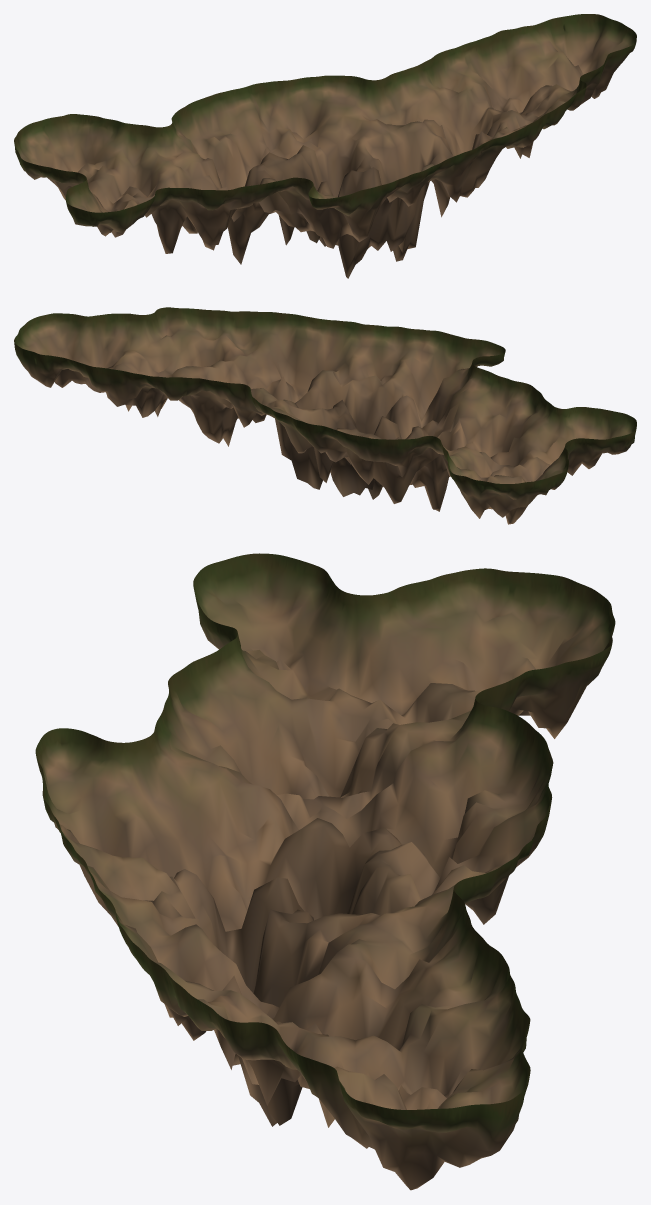
The model's file is SM_H12_IslandRock.fbx.
3 renders of one model, top to bottom at view 1: azimuth 30°, elevation 25°; view 2: azimuth 150°, elevation 25°; view 3: azimuth 270°, elevation 25°, orthographic. The views are drawn at different scales.
Visible parts, largest first — view 1: SM_H12_IslandRock; view 2: SM_H12_IslandRock; view 3: SM_H12_IslandRock.
Part boxes in pixels (box(x1,y1,x2,y2)): SM_H12_IslandRock: box(14, 14, 636, 278); SM_H12_IslandRock: box(14, 307, 636, 524); SM_H12_IslandRock: box(35, 553, 615, 1190).
Size of the model in its own units: 390 by 88.04 by 173.
